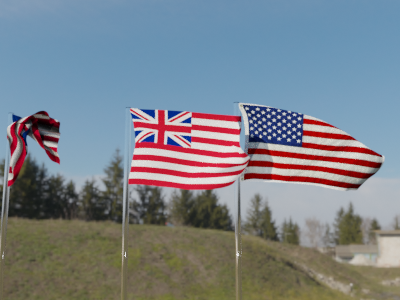America flag: (242, 101, 384, 192)
Liberia flag: (5, 109, 67, 186)
Malaysia flag: (126, 109, 248, 188)
